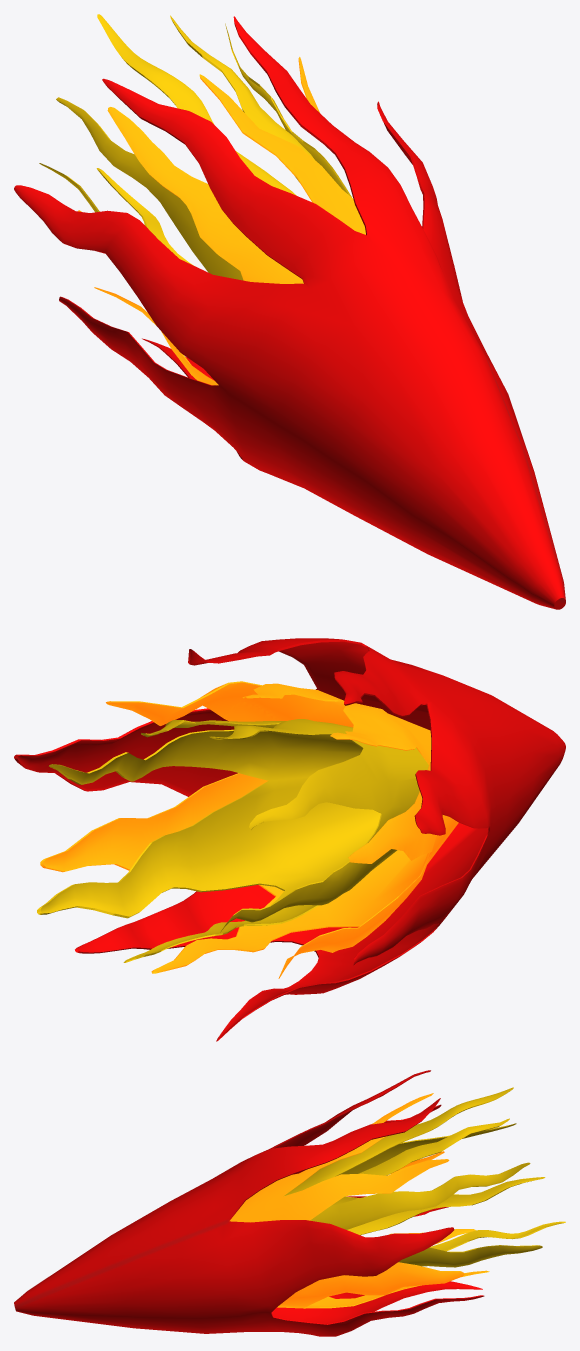
Rendered from Flames.glb.
3 renders of one model, top to bottom at view 1: azimuth 30°, elevation 25°; view 2: azimuth 150°, elevation 25°; view 3: azimuth 270°, elevation 25°, orthographic. The views are drawn at different scales.
Visible parts, largest first — view 1: fire.1; view 2: fire.1; view 3: fire.1.
Part boxes in pixels (x1,y1,x2,y2): fire.1: (14,14,565,609); fire.1: (14,638,565,1041); fire.1: (14,1070,565,1336).
Bounding box in the file's own units: 0.0176 × 0.0165 × 0.0352.
1 material, 1 textured.
